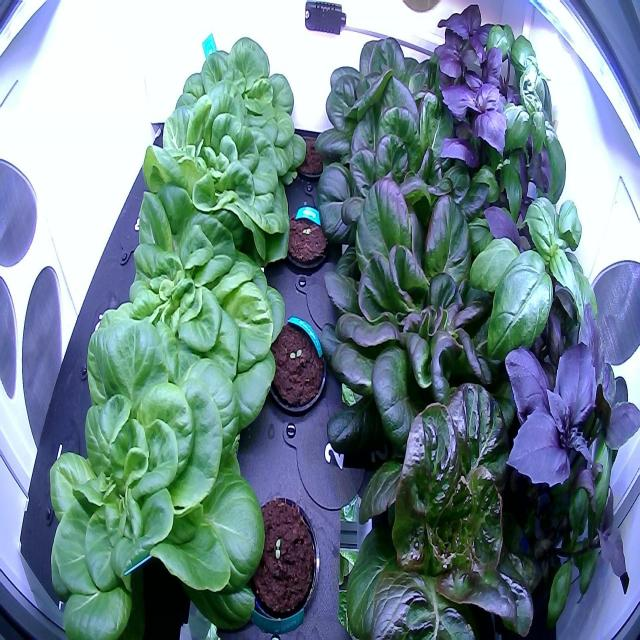Ready: (44, 306, 264, 640), (316, 162, 520, 453), (332, 368, 547, 640), (83, 177, 290, 445), (309, 73, 503, 280), (138, 76, 292, 272), (309, 23, 474, 199), (158, 31, 310, 193)
empty_pod: (38, 410, 86, 532), (114, 179, 159, 272)
germination: (234, 490, 326, 627), (257, 306, 333, 421), (278, 192, 333, 279)
pod: (286, 127, 340, 187)
